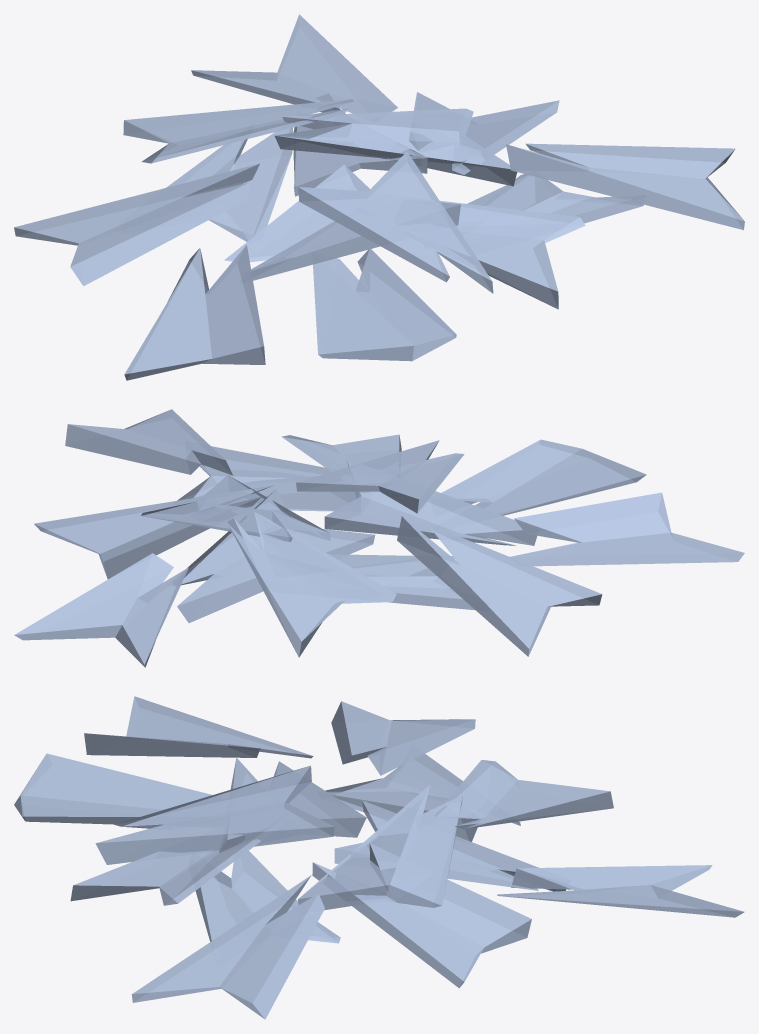
File: GlassShards.fbx
The picture shows the model from 3 angles, top to bottom: view 1: azimuth 30°, elevation 25°; view 2: azimuth 150°, elevation 25°; view 3: azimuth 270°, elevation 25°; orthographic projection. The views are drawn at different scales.
Visible parts, largest first — view 1: Cube; view 2: Cube; view 3: Cube.
Boxes of the visible parts, <box> form: Cube: <box>14,14,744,380</box>; Cube: <box>14,409,744,667</box>; Cube: <box>14,696,744,1019</box>.
Bounding box in the file's own units: 690 × 74.41 × 654.
